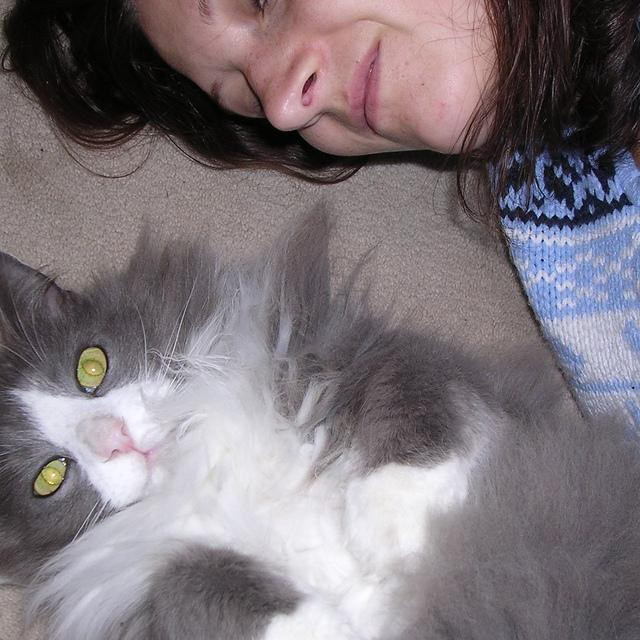animals: (0, 250, 135, 507)
